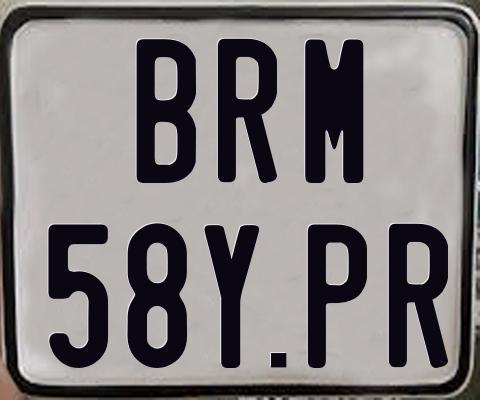5: (46, 223, 106, 371)
8: (127, 222, 189, 373)
B: (136, 36, 199, 180)
M: (305, 36, 368, 185)
P: (308, 224, 369, 371)
R: (217, 36, 281, 185), (389, 221, 449, 371)
Y: (202, 224, 262, 367)
